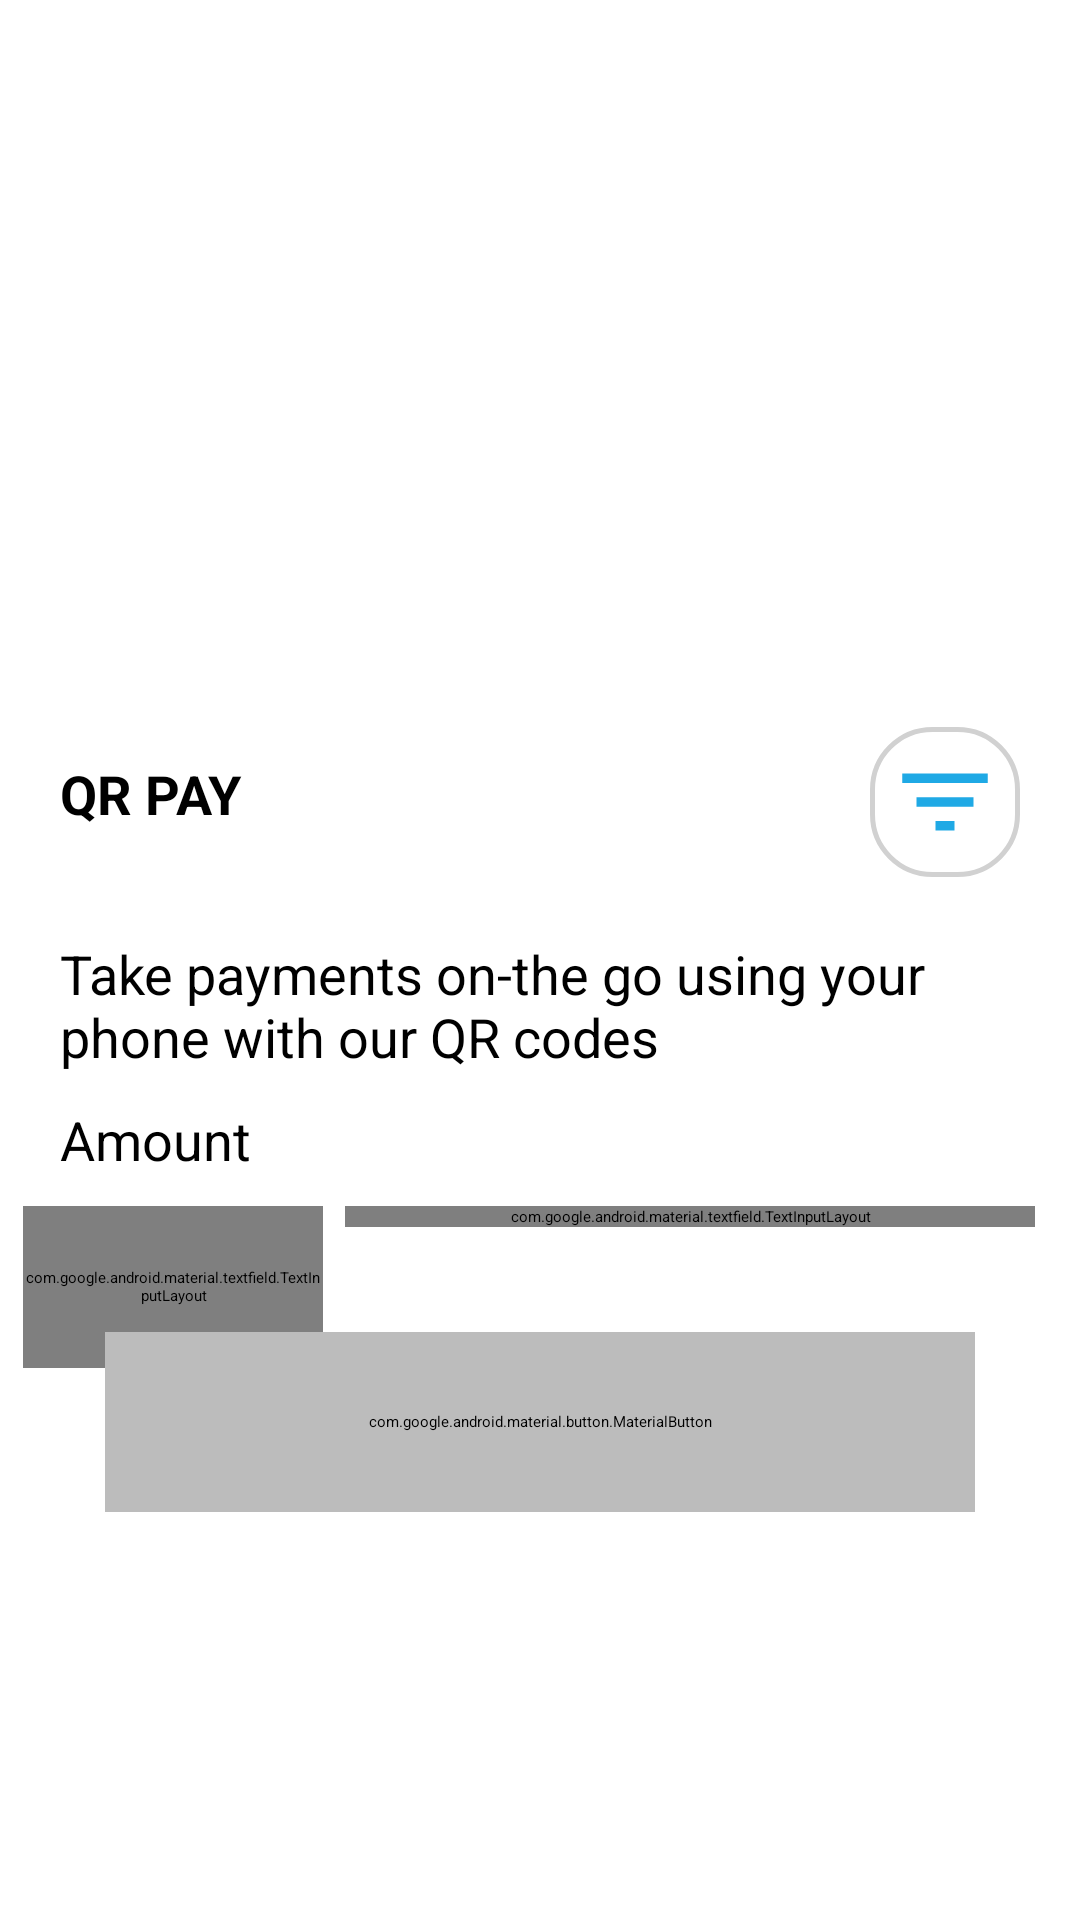

Screen size 1080 × 1920. Icon name, then its center in pixels as [x,y]:
filter list: [945,802]
